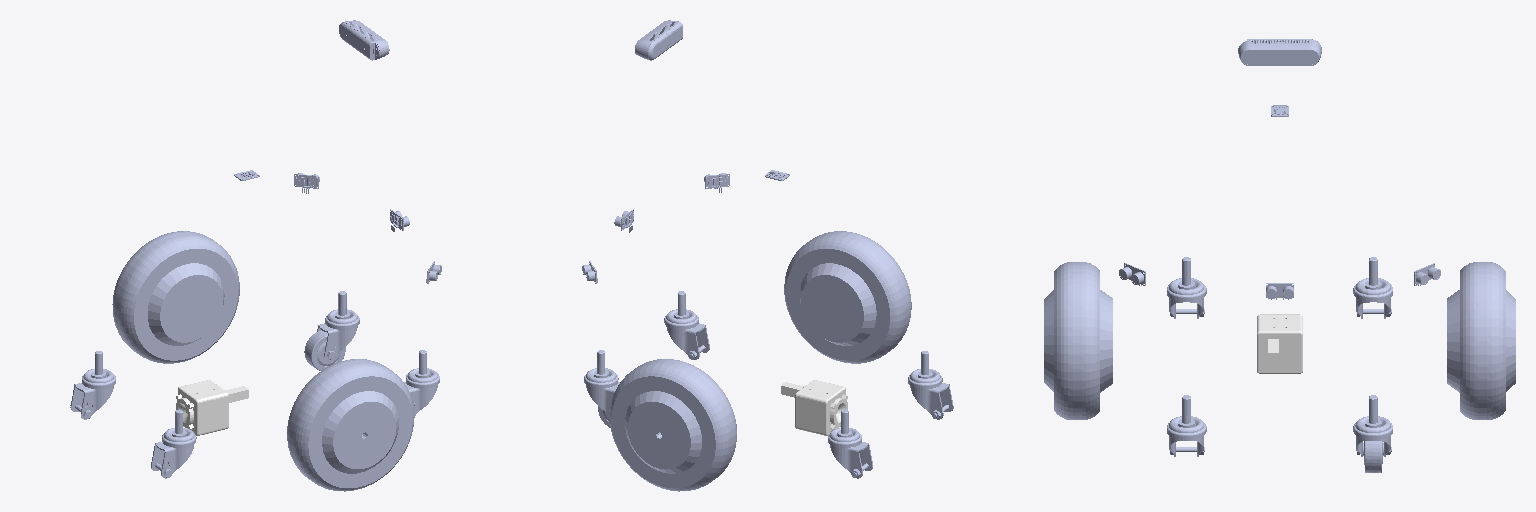
The robot description file, URDF, robot "matrix_true_description":
<?xml version="1.0" encoding="utf-8"?>
<!-- This URDF was automatically created by SolidWorks to URDF Exporter! Originally created by [author] ([email redacted]) 
     Commit Version: 1.6.0-4-g7f85cfe  Build Version: 1.6.7995.38578
     For more information, please see http://wiki.ros.org/sw_urdf_exporter -->
<robot
  name="matrix_true_description">
  <link
    name="base_link">
    <inertial>
      <origin
        xyz="-0.0193327740236747 0.000357362284587354 0.302224740304159"
        rpy="0 0 0" />
      <mass
        value="95.4830322905057" />
      <inertia
        ixx="0.836174315731899"
        ixy="-0.000182558276359213"
        ixz="0.00132925805770279"
        iyy="0.720303102414471"
        iyz="-0.000258706744252241"
        izz="0.722870275760771" />
    </inertial>
    <visual>
      <origin
        xyz="0 0 0"
        rpy="0 0 0" />
      <geometry>
        <mesh
          filename="package://matrix_true_description/meshes/base_link.STL" />
      </geometry>
      <material
        name="">
        <color
          rgba="0.752941176470588 0.752941176470588 0.752941176470588 1" />
      </material>
    </visual>
    <collision>
      <origin
        xyz="0 0 0"
        rpy="0 0 0" />
      <geometry>
        <mesh
          filename="package://matrix_true_description/meshes/base_link.STL" />
      </geometry>
    </collision>
  </link>
  <link
    name="wheel_right_link">
    <inertial>
      <origin
        xyz="-1.3878E-17 0.00082541 2.7905E-10"
        rpy="0 0 0" />
      <mass
        value="1.2499" />
      <inertia
        ixx="0.0023164"
        ixy="-7.259E-19"
        ixz="-9.0858E-26"
        iyy="0.0038673"
        iyz="3.5318E-10"
        izz="0.0023164" />
    </inertial>
    <visual>
      <origin
        xyz="0 0 0"
        rpy="0 0 0" />
      <geometry>
        <mesh
          filename="package://matrix_true_description/meshes/wheel_right_link.STL" />
      </geometry>
      <material
        name="">
        <color
          rgba="0.79216 0.81961 0.93333 1" />
      </material>
    </visual>
    <collision>
      <origin
        xyz="0 0 0"
        rpy="0 0 0" />
      <geometry>
        <mesh
          filename="package://matrix_true_description/meshes/wheel_right_link.STL" />
      </geometry>
    </collision>
  </link>
  <joint
    name="wheel_right_joint"
    type="continuous">
    <origin
      xyz="0.00370810119881812 -0.2171 0.0850001069853645"
      rpy="0 1.5707963267949 0" />
    <parent
      link="base_link" />
    <child
      link="wheel_right_link" />
    <axis
      xyz="0 -1 0" />
    <limit
      effort="8"
      velocity="20.944" />
  </joint>
  <link
    name="wheel_left_link">
    <inertial>
      <origin
        xyz="2.579E-10 -0.00082541 -1.0655E-10"
        rpy="0 0 0" />
      <mass
        value="1.2499" />
      <inertia
        ixx="0.0023164"
        ixy="-3.2641E-10"
        ixz="7.6444E-20"
        iyy="0.0038673"
        iyz="1.3486E-10"
        izz="0.0023164" />
    </inertial>
    <visual>
      <origin
        xyz="0 0 0"
        rpy="0 0 0" />
      <geometry>
        <mesh
          filename="package://matrix_true_description/meshes/wheel_left_link.STL" />
      </geometry>
      <material
        name="">
        <color
          rgba="0.79216 0.81961 0.93333 1" />
      </material>
    </visual>
    <collision>
      <origin
        xyz="0 0 0"
        rpy="0 0 0" />
      <geometry>
        <mesh
          filename="package://matrix_true_description/meshes/wheel_left_link.STL" />
      </geometry>
    </collision>
  </link>
  <joint
    name="wheel_left_right"
    type="continuous">
    <origin
      xyz="0.0037081011988188 0.2171 0.0850001069853643"
      rpy="0 1.5707963267949 0" />
    <parent
      link="base_link" />
    <child
      link="wheel_left_link" />
    <axis
      xyz="0 1 0" />
    <limit
      effort="8"
      velocity="20.944" />
  </joint>
  <link
    name="caster_arm_fr_link">
    <inertial>
      <origin
        xyz="-0.0049485 9.0737E-05 -0.011133"
        rpy="0 0 0" />
      <mass
        value="0.022869" />
      <inertia
        ixx="5.467E-06"
        ixy="1.0185E-09"
        ixz="-1.276E-06"
        iyy="5.6833E-06"
        iyz="9.1538E-10"
        izz="5.7221E-06" />
    </inertial>
    <visual>
      <origin
        xyz="0 0 0"
        rpy="0 0 0" />
      <geometry>
        <mesh
          filename="package://matrix_true_description/meshes/caster_arm_fr_link.STL" />
      </geometry>
      <material
        name="">
        <color
          rgba="0.79216 0.81961 0.93333 1" />
      </material>
    </visual>
    <collision>
      <origin
        xyz="0 0 0"
        rpy="0 0 0" />
      <geometry>
        <mesh
          filename="package://matrix_true_description/meshes/caster_arm_fr_link.STL" />
      </geometry>
    </collision>
  </link>
  <joint
    name="caster_arm_fr_joint"
    type="continuous">
    <origin
      xyz="0.175000000000001 -0.0999999999999988 0.069116"
      rpy="0 0 0" />
    <parent
      link="base_link" />
    <child
      link="caster_arm_fr_link" />
    <axis
      xyz="0 0 1" />
  </joint>
  <link
    name="caster_wheel_fr_link">
    <inertial>
      <origin
        xyz="2.4597E-08 -1.0921E-09 -7.5675E-09"
        rpy="0 0 0" />
      <mass
        value="0.037215" />
      <inertia
        ixx="6.8378E-06"
        ixy="7.8988E-12"
        ixz="-5.3162E-11"
        iyy="1.1315E-05"
        iyz="-2.084E-12"
        izz="6.8374E-06" />
    </inertial>
    <visual>
      <origin
        xyz="0 0 0"
        rpy="0 0 0" />
      <geometry>
        <mesh
          filename="package://matrix_true_description/meshes/caster_wheel_fr_link.STL" />
      </geometry>
      <material
        name="">
        <color
          rgba="0.79216 0.81961 0.93333 1" />
      </material>
    </visual>
    <collision>
      <origin
        xyz="0 0 0"
        rpy="0 0 0" />
      <geometry>
        <mesh
          filename="package://matrix_true_description/meshes/caster_wheel_fr_link.STL" />
      </geometry>
    </collision>
  </link>
  <joint
    name="caster_wheel_fr_joint"
    type="continuous">
    <origin
      xyz="-0.0250000000000008 0 -0.044"
      rpy="0 1.5707963267949 0" />
    <parent
      link="caster_arm_fr_link" />
    <child
      link="caster_wheel_fr_link" />
    <axis
      xyz="0 1 0" />
  </joint>
  <link
    name="caster_arm_fl_link">
    <inertial>
      <origin
        xyz="-0.0049485 9.0737E-05 -0.011133"
        rpy="0 0 0" />
      <mass
        value="0.022869" />
      <inertia
        ixx="5.467E-06"
        ixy="1.0185E-09"
        ixz="-1.276E-06"
        iyy="5.6833E-06"
        iyz="9.1539E-10"
        izz="5.7221E-06" />
    </inertial>
    <visual>
      <origin
        xyz="0 0 0"
        rpy="0 0 0" />
      <geometry>
        <mesh
          filename="package://matrix_true_description/meshes/caster_arm_fl_link.STL" />
      </geometry>
      <material
        name="">
        <color
          rgba="0.79216 0.81961 0.93333 1" />
      </material>
    </visual>
    <collision>
      <origin
        xyz="0 0 0"
        rpy="0 0 0" />
      <geometry>
        <mesh
          filename="package://matrix_true_description/meshes/caster_arm_fl_link.STL" />
      </geometry>
    </collision>
  </link>
  <joint
    name="caster_arm_fl_joint"
    type="continuous">
    <origin
      xyz="0.174999999999999 0.100000000000001 0.069116"
      rpy="0 0 0" />
    <parent
      link="base_link" />
    <child
      link="caster_arm_fl_link" />
    <axis
      xyz="0 0 1" />
  </joint>
  <link
    name="caster_wheel_fl_link">
    <inertial>
      <origin
        xyz="2.4597E-08 -1.0921E-09 -7.5675E-09"
        rpy="0 0 0" />
      <mass
        value="0.037215" />
      <inertia
        ixx="6.8378E-06"
        ixy="7.8988E-12"
        ixz="-5.3162E-11"
        iyy="1.1315E-05"
        iyz="-2.084E-12"
        izz="6.8374E-06" />
    </inertial>
    <visual>
      <origin
        xyz="0 0 0"
        rpy="0 0 0" />
      <geometry>
        <mesh
          filename="package://matrix_true_description/meshes/caster_wheel_fl_link.STL" />
      </geometry>
      <material
        name="">
        <color
          rgba="0.79216 0.81961 0.93333 1" />
      </material>
    </visual>
    <collision>
      <origin
        xyz="0 0 0"
        rpy="0 0 0" />
      <geometry>
        <mesh
          filename="package://matrix_true_description/meshes/caster_wheel_fl_link.STL" />
      </geometry>
    </collision>
  </link>
  <joint
    name="caster_wheel_fl_joint"
    type="continuous">
    <origin
      xyz="-0.0249999999999994 0 -0.0439999999999999"
      rpy="0 1.5707963267949 0" />
    <parent
      link="caster_arm_fl_link" />
    <child
      link="caster_wheel_fl_link" />
    <axis
      xyz="0 1 0" />
  </joint>
  <link
    name="caster_arm_rr_link">
    <inertial>
      <origin
        xyz="-0.0049485 9.0737E-05 -0.011133"
        rpy="0 0 0" />
      <mass
        value="0.022869" />
      <inertia
        ixx="5.467E-06"
        ixy="1.0185E-09"
        ixz="-1.276E-06"
        iyy="5.6833E-06"
        iyz="9.1538E-10"
        izz="5.7221E-06" />
    </inertial>
    <visual>
      <origin
        xyz="0 0 0"
        rpy="0 0 0" />
      <geometry>
        <mesh
          filename="package://matrix_true_description/meshes/caster_arm_rr_link.STL" />
      </geometry>
      <material
        name="">
        <color
          rgba="0.79216 0.81961 0.93333 1" />
      </material>
    </visual>
    <collision>
      <origin
        xyz="0 0 0"
        rpy="0 0 0" />
      <geometry>
        <mesh
          filename="package://matrix_true_description/meshes/caster_arm_rr_link.STL" />
      </geometry>
    </collision>
  </link>
  <joint
    name="caster_arm_rr_joint"
    type="continuous">
    <origin
      xyz="-0.174999999999999 -0.100000000000001 0.069116"
      rpy="0 0 0" />
    <parent
      link="base_link" />
    <child
      link="caster_arm_rr_link" />
    <axis
      xyz="0 0 1" />
  </joint>
  <link
    name="caster_wheel_rr_link">
    <inertial>
      <origin
        xyz="2.4597E-08 -1.0921E-09 -7.5675E-09"
        rpy="0 0 0" />
      <mass
        value="0.037215" />
      <inertia
        ixx="6.8378E-06"
        ixy="7.8988E-12"
        ixz="-5.3162E-11"
        iyy="1.1315E-05"
        iyz="-2.084E-12"
        izz="6.8374E-06" />
    </inertial>
    <visual>
      <origin
        xyz="0 0 0"
        rpy="0 0 0" />
      <geometry>
        <mesh
          filename="package://matrix_true_description/meshes/caster_wheel_rr_link.STL" />
      </geometry>
      <material
        name="">
        <color
          rgba="0.79216 0.81961 0.93333 1" />
      </material>
    </visual>
    <collision>
      <origin
        xyz="0 0 0"
        rpy="0 0 0" />
      <geometry>
        <mesh
          filename="package://matrix_true_description/meshes/caster_wheel_rr_link.STL" />
      </geometry>
    </collision>
  </link>
  <joint
    name="caster_wheel_rr_joint"
    type="continuous">
    <origin
      xyz="-0.0250000000000008 0 -0.044"
      rpy="0 1.5707963267949 0" />
    <parent
      link="caster_arm_rr_link" />
    <child
      link="caster_wheel_rr_link" />
    <axis
      xyz="0 1 0" />
  </joint>
  <link
    name="caster_arm_rl_link">
    <inertial>
      <origin
        xyz="-0.0049485 9.0737E-05 -0.011133"
        rpy="0 0 0" />
      <mass
        value="0.022869" />
      <inertia
        ixx="5.467E-06"
        ixy="1.0185E-09"
        ixz="-1.276E-06"
        iyy="5.6833E-06"
        iyz="9.1538E-10"
        izz="5.7221E-06" />
    </inertial>
    <visual>
      <origin
        xyz="0 0 0"
        rpy="0 0 0" />
      <geometry>
        <mesh
          filename="package://matrix_true_description/meshes/caster_arm_rl_link.STL" />
      </geometry>
      <material
        name="">
        <color
          rgba="0.79216 0.81961 0.93333 1" />
      </material>
    </visual>
    <collision>
      <origin
        xyz="0 0 0"
        rpy="0 0 0" />
      <geometry>
        <mesh
          filename="package://matrix_true_description/meshes/caster_arm_rl_link.STL" />
      </geometry>
    </collision>
  </link>
  <joint
    name="caster_arm_rl_joint"
    type="continuous">
    <origin
      xyz="-0.175000000000001 0.0999999999999989 0.069116"
      rpy="0 0 0" />
    <parent
      link="base_link" />
    <child
      link="caster_arm_rl_link" />
    <axis
      xyz="0 0 1" />
  </joint>
  <link
    name="caster_wheel_rl_link">
    <inertial>
      <origin
        xyz="2.4597E-08 -1.0921E-09 -7.5675E-09"
        rpy="0 0 0" />
      <mass
        value="0.037215" />
      <inertia
        ixx="6.8378E-06"
        ixy="7.8988E-12"
        ixz="-5.3162E-11"
        iyy="1.1315E-05"
        iyz="-2.084E-12"
        izz="6.8374E-06" />
    </inertial>
    <visual>
      <origin
        xyz="0 0 0"
        rpy="0 0 0" />
      <geometry>
        <mesh
          filename="package://matrix_true_description/meshes/caster_wheel_rl_link.STL" />
      </geometry>
      <material
        name="">
        <color
          rgba="0.79216 0.81961 0.93333 1" />
      </material>
    </visual>
    <collision>
      <origin
        xyz="0 0 0"
        rpy="0 0 0" />
      <geometry>
        <mesh
          filename="package://matrix_true_description/meshes/caster_wheel_rl_link.STL" />
      </geometry>
    </collision>
  </link>
  <joint
    name="caster_wheel_rl_joint"
    type="continuous">
    <origin
      xyz="-0.0249999999999994 0 -0.0439999999999999"
      rpy="0 1.5707963267949 0" />
    <parent
      link="caster_arm_rl_link" />
    <child
      link="caster_wheel_rl_link" />
    <axis
      xyz="0 1 0" />
  </joint>
  <link
    name="imu_link">
    <inertial>
      <origin
        xyz="0.00044188 -0.00010543 -0.0015868"
        rpy="0 0 0" />
      <mass
        value="0.00098313" />
      <inertia
        ixx="2.7278E-08"
        ixy="1.8646E-11"
        ixz="1.8314E-11"
        iyy="4.8045E-08"
        iyz="1.8158E-12"
        izz="7.4856E-08" />
    </inertial>
    <visual>
      <origin
        xyz="0 0 0"
        rpy="0 0 0" />
      <geometry>
        <mesh
          filename="package://matrix_true_description/meshes/imu_link.STL" />
      </geometry>
      <material
        name="">
        <color
          rgba="0.79216 0.81961 0.93333 1" />
      </material>
    </visual>
    <collision>
      <origin
        xyz="0 0 0"
        rpy="0 0 0" />
      <geometry>
        <mesh
          filename="package://matrix_true_description/meshes/imu_link.STL" />
      </geometry>
    </collision>
  </link>
  <joint
    name="imu_joint"
    type="fixed">
    <origin
      xyz="-0.020000000000002 0 0.347116"
      rpy="0 0 0" />
    <parent
      link="base_link" />
    <child
      link="imu_link" />
    <axis
      xyz="0 0 0" />
  </joint>
  <link
    name="lidar_merged_link">
    <inertial>
      <origin
        xyz="0.0029904 1.4355E-05 -0.013984"
        rpy="0 0 0" />
      <mass
        value="0.047984" />
      <inertia
        ixx="2.505E-05"
        ixy="5.7803E-09"
        ixz="1.4459E-08"
        iyy="2.6771E-05"
        iyz="9.2353E-10"
        izz="4.8899E-05" />
    </inertial>
    <visual>
      <origin
        xyz="0 0 0"
        rpy="0 0 0" />
      <geometry>
        <mesh
          filename="package://matrix_true_description/meshes/lidar_merged_link.STL" />
      </geometry>
      <material
        name="">
        <color
          rgba="0.49804 0.49804 0.49804 1" />
      </material>
    </visual>
    <collision>
      <origin
        xyz="0 0 0"
        rpy="0 0 0" />
      <geometry>
        <mesh
          filename="package://matrix_true_description/meshes/lidar_merged_link.STL" />
      </geometry>
    </collision>
  </link>
  <joint
    name="lidar_merged_joint"
    type="fixed">
    <origin
      xyz="0.155000000000003 0 0.295715793055286"
      rpy="0 0 3.14159265358979" />
    <parent
      link="base_link" />
    <child
      link="lidar_merged_link" />
    <axis
      xyz="0 0 0" />
  </joint>
  <link
    name="depth_cam_mount_point_link">
    <inertial>
      <origin
        xyz="0.0015077 0.001406 0.012477"
        rpy="0 0 0" />
      <mass
        value="0.036472" />
      <inertia
        ixx="2.3403E-05"
        ixy="2.1029E-07"
        ixz="1.0154E-08"
        iyy="3.5061E-06"
        iyz="1.7263E-09"
        izz="2.3612E-05" />
    </inertial>
    <visual>
      <origin
        xyz="0 0 0"
        rpy="0 0 0" />
      <geometry>
        <mesh
          filename="package://matrix_true_description/meshes/depth_cam_mount_point_link.STL" />
      </geometry>
      <material
        name="">
        <color
          rgba="0.79216 0.81961 0.93333 1" />
      </material>
    </visual>
    <collision>
      <origin
        xyz="0 0 0"
        rpy="0 0 0" />
      <geometry>
        <mesh
          filename="package://matrix_true_description/meshes/depth_cam_mount_point_link.STL" />
      </geometry>
    </collision>
  </link>
  <joint
    name="depth_cam_mount_point_joint"
    type="fixed">
    <origin
      xyz="0.145649999999998 0 0.480116"
      rpy="0 0 0" />
    <parent
      link="base_link" />
    <child
      link="depth_cam_mount_point_link" />
    <axis
      xyz="0 0 0" />
  </joint>
  <link
    name="ultrasonic_fr_link">
    <inertial>
      <origin
        xyz="-0.016663 0.00013386 -0.00013337"
        rpy="0 0 0" />
      <mass
        value="0.0027745" />
      <inertia
        ixx="2.7422E-07"
        ixy="-1.3928E-08"
        ixz="-2.1173E-09"
        iyy="7.0079E-08"
        iyz="-1.2294E-11"
        izz="2.5957E-07" />
    </inertial>
    <visual>
      <origin
        xyz="0 0 0"
        rpy="0 0 0" />
      <geometry>
        <mesh
          filename="package://matrix_true_description/meshes/ultrasonic_fr_link.STL" />
      </geometry>
      <material
        name="">
        <color
          rgba="0.79216 0.81961 0.93333 1" />
      </material>
    </visual>
    <collision>
      <origin
        xyz="0 0 0"
        rpy="0 0 0" />
      <geometry>
        <mesh
          filename="package://matrix_true_description/meshes/ultrasonic_fr_link.STL" />
      </geometry>
    </collision>
  </link>
  <joint
    name="ultrasonic_fr_joint"
    type="fixed">
    <origin
      xyz="0.169517824893003 -0.168095327438868 0.234077654834356"
      rpy="0 0.00199498585800991 -0.717281737993582" />
    <parent
      link="base_link" />
    <child
      link="ultrasonic_fr_link" />
    <axis
      xyz="0 0 0" />
  </joint>
  <link
    name="ultrasonic_fc_link">
    <inertial>
      <origin
        xyz="-0.014549 5.6224E-06 -0.0001367"
        rpy="0 0 0" />
      <mass
        value="0.0027745" />
      <inertia
        ixx="2.7523E-07"
        ixy="6.4822E-11"
        ixz="-1.8546E-09"
        iyy="6.9133E-08"
        iyz="-1.2947E-10"
        izz="2.5951E-07" />
    </inertial>
    <visual>
      <origin
        xyz="0 0 0"
        rpy="0 0 0" />
      <geometry>
        <mesh
          filename="package://matrix_true_description/meshes/ultrasonic_fc_link.STL" />
      </geometry>
      <material
        name="">
        <color
          rgba="0.79216 0.81961 0.93333 1" />
      </material>
    </visual>
    <collision>
      <origin
        xyz="0 0 0"
        rpy="0 0 0" />
      <geometry>
        <mesh
          filename="package://matrix_true_description/meshes/ultrasonic_fc_link.STL" />
      </geometry>
    </collision>
  </link>
  <joint
    name="ultrasonic_fc_joint"
    type="fixed">
    <origin
      xyz="0.212644504488986 0 0.2338466055562"
      rpy="0 0.0183935250864792 0" />
    <parent
      link="base_link" />
    <child
      link="ultrasonic_fc_link" />
    <axis
      xyz="0 0 0" />
  </joint>
  <link
    name="ultrasonic_fl_link">
    <inertial>
      <origin
        xyz="-0.016662 -0.00014064 -0.00013413"
        rpy="0 0 0" />
      <mass
        value="0.0027745" />
      <inertia
        ixx="2.742E-07"
        ixy="1.4092E-08"
        ixz="-2.1038E-09"
        iyy="7.0101E-08"
        iyz="-2.5261E-10"
        izz="2.5957E-07" />
    </inertial>
    <visual>
      <origin
        xyz="0 0 0"
        rpy="0 0 0" />
      <geometry>
        <mesh
          filename="package://matrix_true_description/meshes/ultrasonic_fl_link.STL" />
      </geometry>
      <material
        name="">
        <color
          rgba="0.79216 0.81961 0.93333 1" />
      </material>
    </visual>
    <collision>
      <origin
        xyz="0 0 0"
        rpy="0 0 0" />
      <geometry>
        <mesh
          filename="package://matrix_true_description/meshes/ultrasonic_fl_link.STL" />
      </geometry>
    </collision>
  </link>
  <joint
    name="ultrasonic_fl_joint"
    type="fixed">
    <origin
      xyz="0.169519435902909 0.168093291552763 0.234083315247261"
      rpy="0 0.00170059039625006 0.717087904309002" />
    <parent
      link="base_link" />
    <child
      link="ultrasonic_fl_link" />
    <axis
      xyz="0 0 0" />
  </joint>
  <link
    name="rear_camera_link">
    <inertial>
      <origin
        xyz="-0.029671 0.00028258 0.00045378"
        rpy="0 0 0" />
      <mass
        value="0.12773" />
      <inertia
        ixx="4.9543E-05"
        ixy="1.9659E-21"
        ixz="-2.7639E-22"
        iyy="4.964E-05"
        iyz="2.2169E-21"
        izz="4.9782E-05" />
    </inertial>
    <visual>
      <origin
        xyz="0 0 0"
        rpy="0 0 0" />
      <geometry>
        <mesh
          filename="package://matrix_true_description/meshes/rear_camera_link.STL" />
      </geometry>
      <material
        name="">
        <color
          rgba="1 1 1 1" />
      </material>
    </visual>
    <collision>
      <origin
        xyz="0 0 0"
        rpy="0 0 0" />
      <geometry>
        <mesh
          filename="package://matrix_true_description/meshes/rear_camera_link.STL" />
      </geometry>
    </collision>
  </link>
  <joint
    name="rear_camera_joint"
    type="fixed">
    <origin
      xyz="-0.111753499872574 0 0.041116"
      rpy="0 0 -3.14159265358979" />
    <parent
      link="base_link" />
    <child
      link="rear_camera_link" />
    <axis
      xyz="0 0 0" />
  </joint>
</robot>

--- What the picture shows (computed from the rendered views, not written in the file) ---
3 views of the same robot in one strip: view 1: azimuth 30°, elevation 25°; view 2: azimuth 150°, elevation 25°; view 3: azimuth 270°, elevation 25° (orthographic).
Model matrix_true_description with 18 links and 17 joints (10 continuous, 7 fixed), rooted at base_link, posed all joints at 0.
Visible links, largest first — view 1: wheel_left_link, wheel_right_link, rear_camera_link, caster_arm_rl_link, caster_arm_rr_link, caster_arm_fl_link, depth_cam_mount_point_link, caster_arm_fr_link, caster_wheel_fl_link; view 2: wheel_right_link, wheel_left_link, rear_camera_link, caster_arm_rr_link, caster_arm_fr_link, caster_arm_rl_link, caster_arm_fl_link, depth_cam_mount_point_link; view 3: wheel_right_link, wheel_left_link, rear_camera_link, depth_cam_mount_point_link, caster_arm_fr_link, caster_arm_rr_link, caster_arm_rl_link, caster_arm_fl_link, caster_wheel_fl_link.
Link boxes in pixels (bbox=[...]): wheel_left_link: bbox=[112, 231, 239, 363]; wheel_right_link: bbox=[287, 359, 413, 491]; rear_camera_link: bbox=[176, 380, 248, 435]; caster_arm_rl_link: bbox=[70, 351, 115, 419]; caster_arm_rr_link: bbox=[151, 409, 196, 478]; caster_arm_fl_link: bbox=[317, 291, 359, 359]; depth_cam_mount_point_link: bbox=[339, 20, 389, 60]; caster_arm_fr_link: bbox=[404, 350, 439, 417]; caster_wheel_fl_link: bbox=[304, 330, 345, 370]; wheel_right_link: bbox=[784, 231, 911, 363]; wheel_left_link: bbox=[610, 359, 736, 491]; rear_camera_link: bbox=[781, 380, 847, 435]; caster_arm_rr_link: bbox=[908, 351, 953, 419]; caster_arm_fr_link: bbox=[664, 291, 709, 359]; caster_arm_rl_link: bbox=[828, 409, 872, 478]; caster_arm_fl_link: bbox=[584, 350, 619, 417]; depth_cam_mount_point_link: bbox=[635, 20, 682, 60]; wheel_right_link: bbox=[1044, 262, 1112, 419]; wheel_left_link: bbox=[1447, 262, 1515, 419]; rear_camera_link: bbox=[1257, 314, 1302, 373]; depth_cam_mount_point_link: bbox=[1238, 39, 1321, 65]; caster_arm_fr_link: bbox=[1167, 395, 1206, 456]; caster_arm_rr_link: bbox=[1167, 257, 1206, 318]; caster_arm_rl_link: bbox=[1353, 257, 1392, 318]; caster_arm_fl_link: bbox=[1353, 395, 1392, 456]; caster_wheel_fl_link: bbox=[1363, 441, 1383, 472].
Size in the robot's own frame: 0.413 by 0.5044 by 0.5051 metres.
13 mesh visuals loaded from 18 distinct referenced files (13 binary STL); not drawn: 5 (reference not matched to a file when rendering).